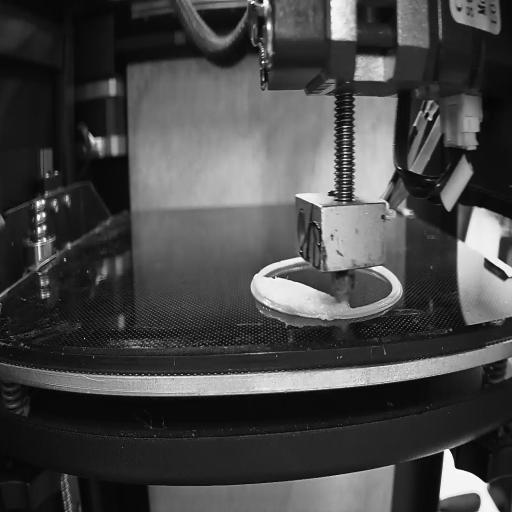over_extrusion: (313, 302, 336, 325)
